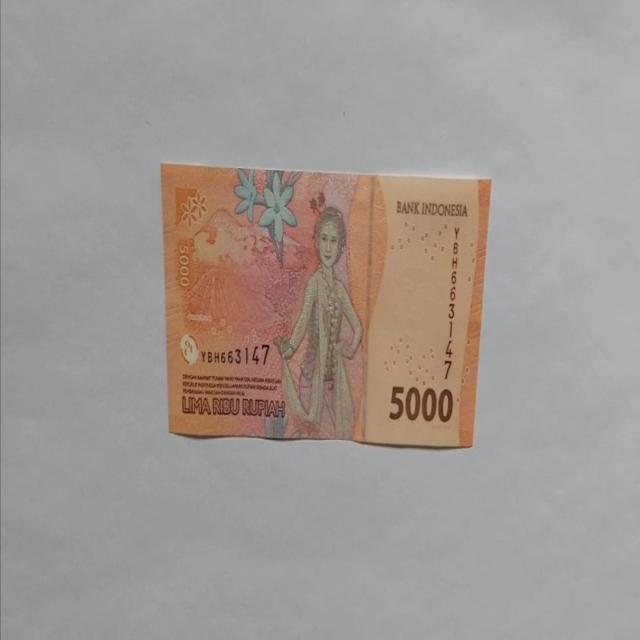lima ribu rupiah: (160, 161, 492, 448), (272, 205, 364, 440)
